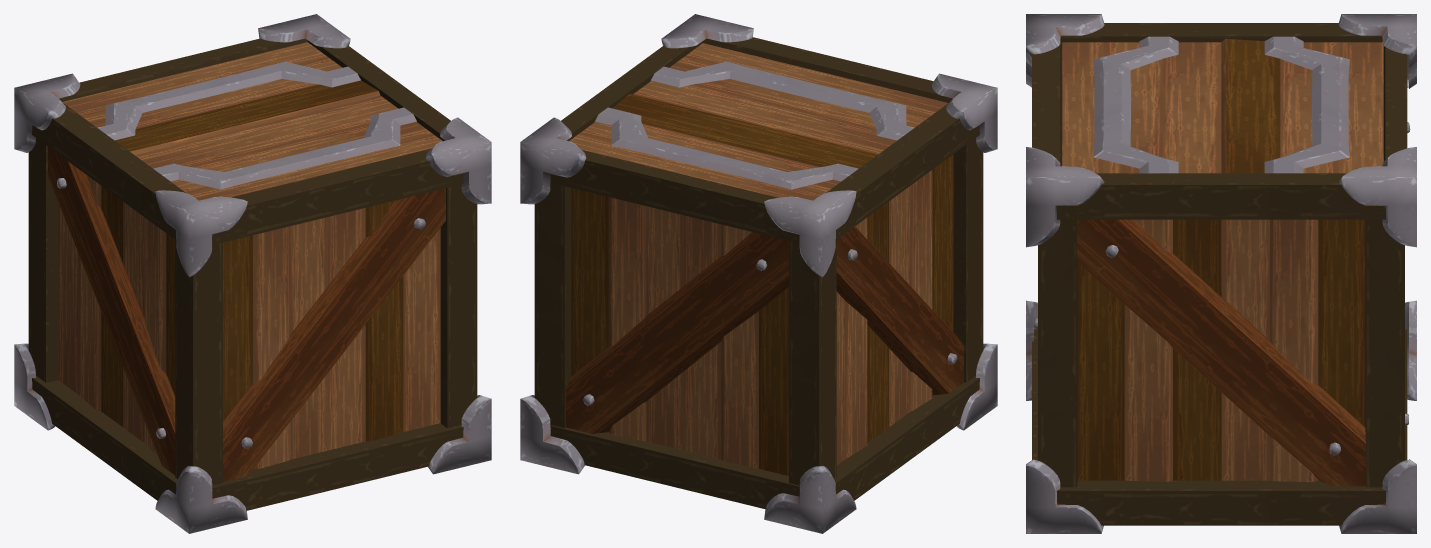
File: crate_metal.glb
The picture shows the model from 3 angles, left to right: view 1: azimuth 30°, elevation 25°; view 2: azimuth 150°, elevation 25°; view 3: azimuth 270°, elevation 25°; orthographic projection. The views are drawn at different scales.
Visible parts, largest first — view 1: Crate_Metal; view 2: Crate_Metal; view 3: Crate_Metal.
Boxes of the visible parts, left/top/right/bottom form: Crate_Metal: left=14, top=14, right=491, bottom=533; Crate_Metal: left=520, top=14, right=997, bottom=533; Crate_Metal: left=1026, top=14, right=1416, bottom=533.
Bounding box in the file's own units: 0.8639 × 0.8679 × 0.8659.
Materials: 2 (2 with a texture image).
